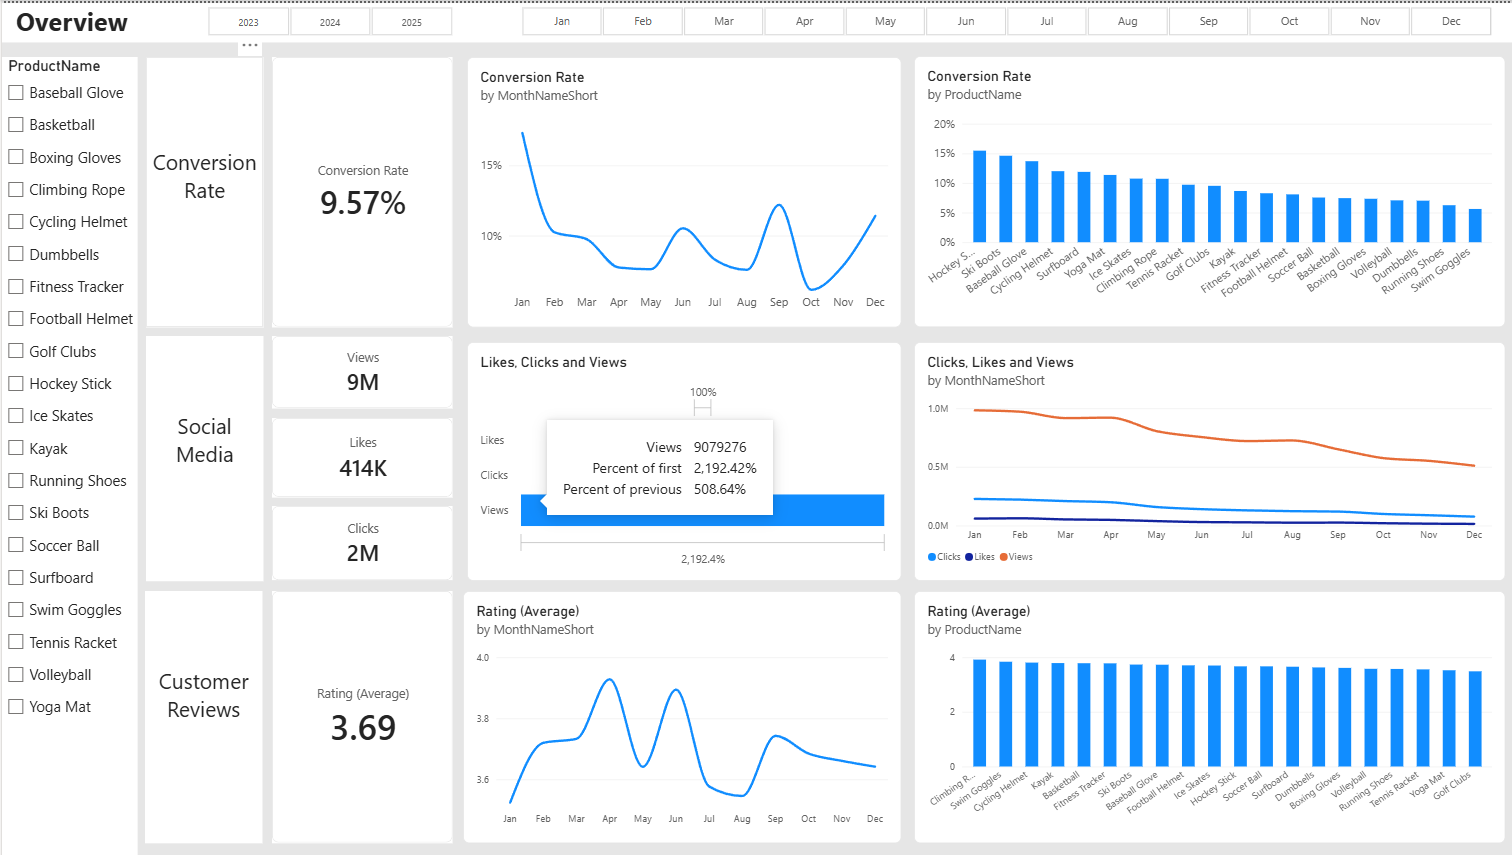

This screenshot's page, from the dashboard's own definition file:
{"tool":"powerbi","page":{"name":"Overview","canvas":[1920,1080],"ordinal":0},"visuals":[{"type":"textbox","box":[0,0,1920,50.5],"z":0},{"type":"slicer","fields":{"Values":["dim_products.ProductName"]},"box":[0,68.6,172.1,1011.8],"z":1000},{"type":"textbox","box":[182.4,68.6,148.8,342.9],"z":2000},{"type":"textbox","box":[182.4,421.8,148.8,310.5],"z":3000},{"type":"textbox","box":[181.1,745.2,148.8,319.6],"z":4000},{"type":"cardVisual","fields":{"Data":["_Calculations (2).Conversion Rate"]},"box":[342.9,68.6,229,342.9],"z":5000},{"type":"cardVisual","fields":{"Data":["_Calculations (2).Views"]},"box":[342.9,421.8,229.1,91.9],"z":6000},{"type":"cardVisual","fields":{"Data":["_Calculations (2).Likes"]},"box":[342.9,526.6,229.1,100.7],"z":7000},{"type":"cardVisual","fields":{"Data":["_Calculations (2).Clicks"]},"box":[342.9,637.8,229,94.4],"z":8000},{"type":"cardVisual","fields":{"Data":["_Calculations (2).Rating (Average)"]},"box":[342.9,745.2,229,319.6],"z":9000},{"type":"slicer","fields":{"Values":["Calendar.Year"]},"box":[240.7,4.4,348.7,39.4],"z":10000},{"type":"lineChart","fields":{"Category":["Calendar.MonthNameShort"],"Y":["_Calculations (2).Conversion Rate"]},"box":[590,68.6,551.2,342.9],"z":11000},{"type":"clusteredColumnChart","fields":{"Category":["dim_products.ProductName"],"Y":["_Calculations (2).Conversion Rate"]},"box":[1156.7,67.3,750.4,344.2],"z":12000},{"type":"lineChart","fields":{"Category":["Calendar.MonthNameShort"],"Y":["_Calculations (2).Clicks","_Calculations (2).Likes","_Calculations (2).Views"]},"box":[1156.7,429.5,750.4,302.7],"z":13000},{"type":"funnel","fields":{"Y":["_Calculations (2).Likes","_Calculations (2).Clicks","_Calculations (2).Views"]},"box":[590,429.5,551.2,302.7],"z":14000},{"type":"lineChart","fields":{"Category":["Calendar.MonthNameShort"],"Y":["_Calculations (2).Rating (Average)"]},"box":[584.8,745.2,556.3,319.6],"z":15000},{"type":"slicer","fields":{"Values":["Calendar.MonthNameShort"]},"box":[639.1,3.9,1267.9,38.8],"z":16000},{"type":"clusteredColumnChart","fields":{"Category":["dim_products.ProductName"],"Y":["_Calculations (2).Rating (Average)"]},"box":[1156.7,745.2,750.4,319.6],"z":17000}]}

Visuals, with their boxes in screenshot pixels (x1, y1, x2, y2), scaled from the page's 1920x1080 canvas onto the 1512x855 screenshot:
textbox: locate(0, 0, 1511, 40)
slicer - dim_products.ProductName: locate(0, 54, 136, 854)
textbox: locate(144, 54, 261, 326)
textbox: locate(144, 334, 261, 580)
textbox: locate(143, 590, 260, 843)
cardVisual - _Calculations (2).Conversion Rate: locate(270, 54, 450, 326)
cardVisual - _Calculations (2).Views: locate(270, 334, 450, 407)
cardVisual - _Calculations (2).Likes: locate(270, 417, 450, 497)
cardVisual - _Calculations (2).Clicks: locate(270, 505, 450, 580)
cardVisual - _Calculations (2).Rating (Average): locate(270, 590, 450, 843)
slicer - Calendar.Year: locate(190, 3, 464, 35)
lineChart - Calendar.MonthNameShort x _Calculations (2).Conversion Rate: locate(465, 54, 899, 326)
clusteredColumnChart - dim_products.ProductName x _Calculations (2).Conversion Rate: locate(911, 53, 1502, 326)
lineChart - Calendar.MonthNameShort x _Calculations (2).Clicks: locate(911, 340, 1502, 580)
funnel - _Calculations (2).Likes x _Calculations (2).Clicks: locate(465, 340, 899, 580)
lineChart - Calendar.MonthNameShort x _Calculations (2).Rating (Average): locate(461, 590, 899, 843)
slicer - Calendar.MonthNameShort: locate(503, 3, 1502, 34)
clusteredColumnChart - dim_products.ProductName x _Calculations (2).Rating (Average): locate(911, 590, 1502, 843)
